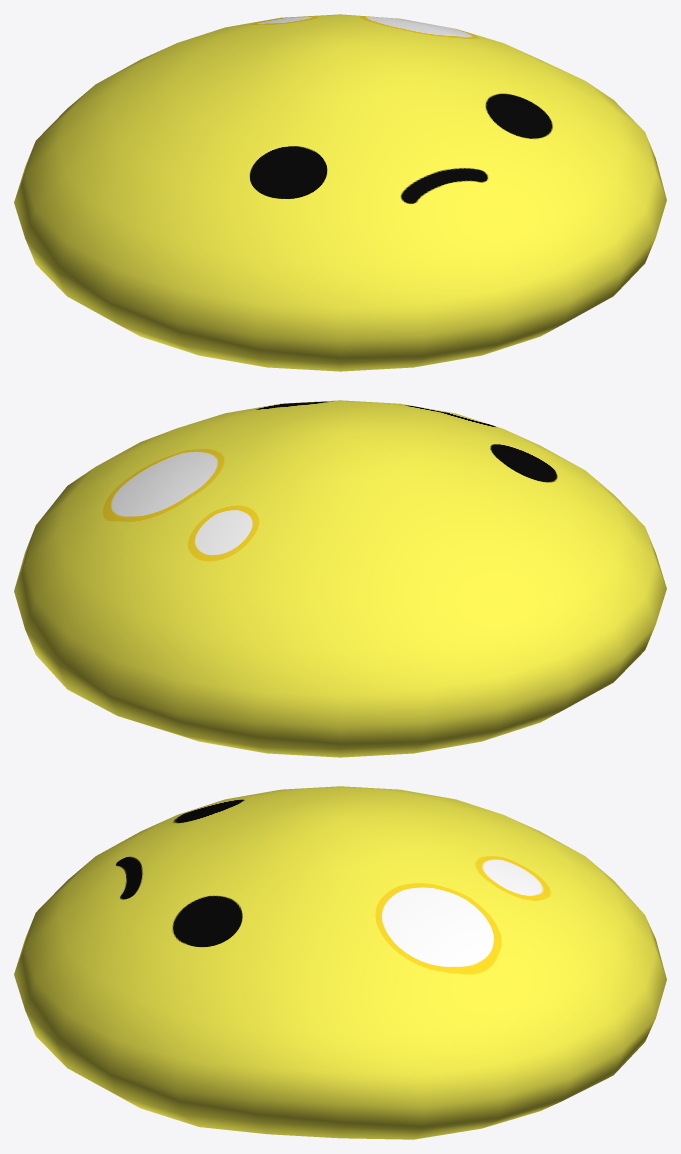
The model's file is piss.fbx.
3 renders of one model, top to bottom at view 1: azimuth 30°, elevation 25°; view 2: azimuth 150°, elevation 25°; view 3: azimuth 270°, elevation 25°, orthographic.
Visible parts, largest first — view 1: Sphere; view 2: Sphere; view 3: Sphere.
Part boxes in pixels (x1,y1,x2,y2): Sphere: (14,14,666,371); Sphere: (14,400,666,757); Sphere: (14,786,666,1139).
Bounding box in the file's own units: 243 × 89.42 × 243.
1 material, 1 textured.
